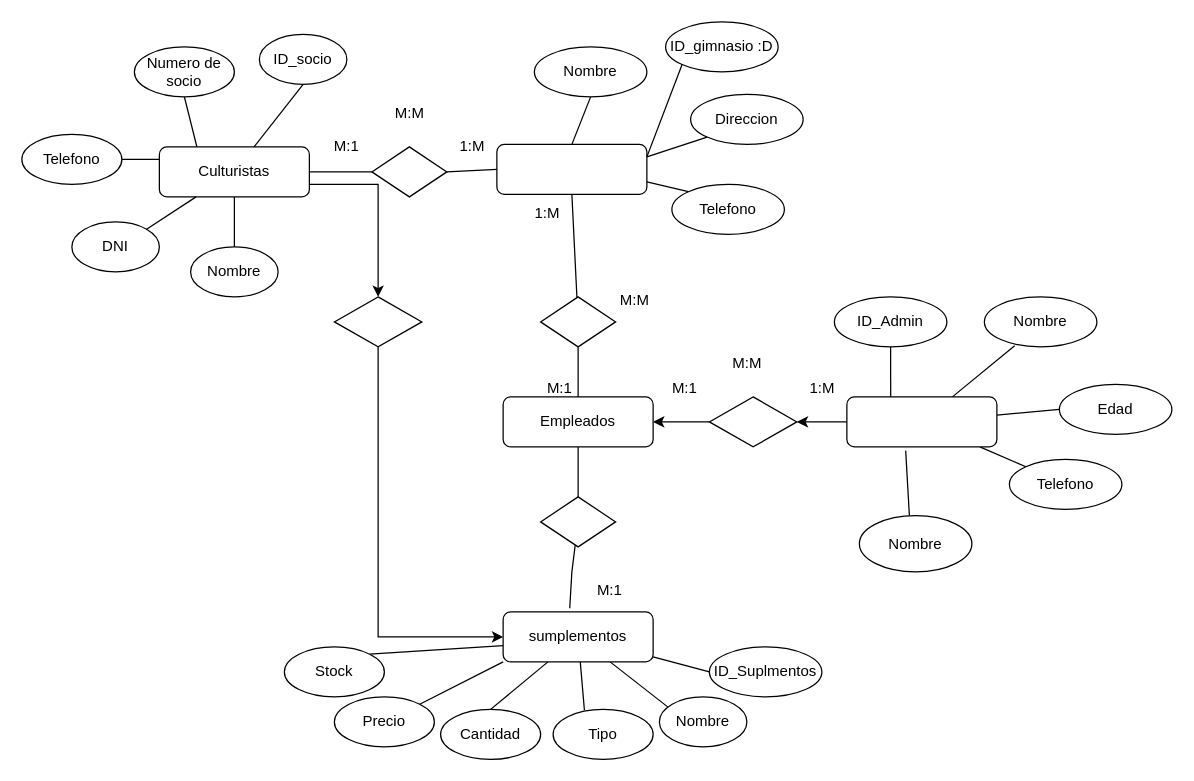
The diagram is 1194 pixels wide and 781 high, and some of its shapes have lost their labels. Each missing label, with the centre of its shape:
Administrador: (921,421)
Compran: (377,321)
Gimnasio: (571,168)
Supervisa: (752,421)
supuervisa: (577,321)
Van: (409,171)
Vende: (577,521)
